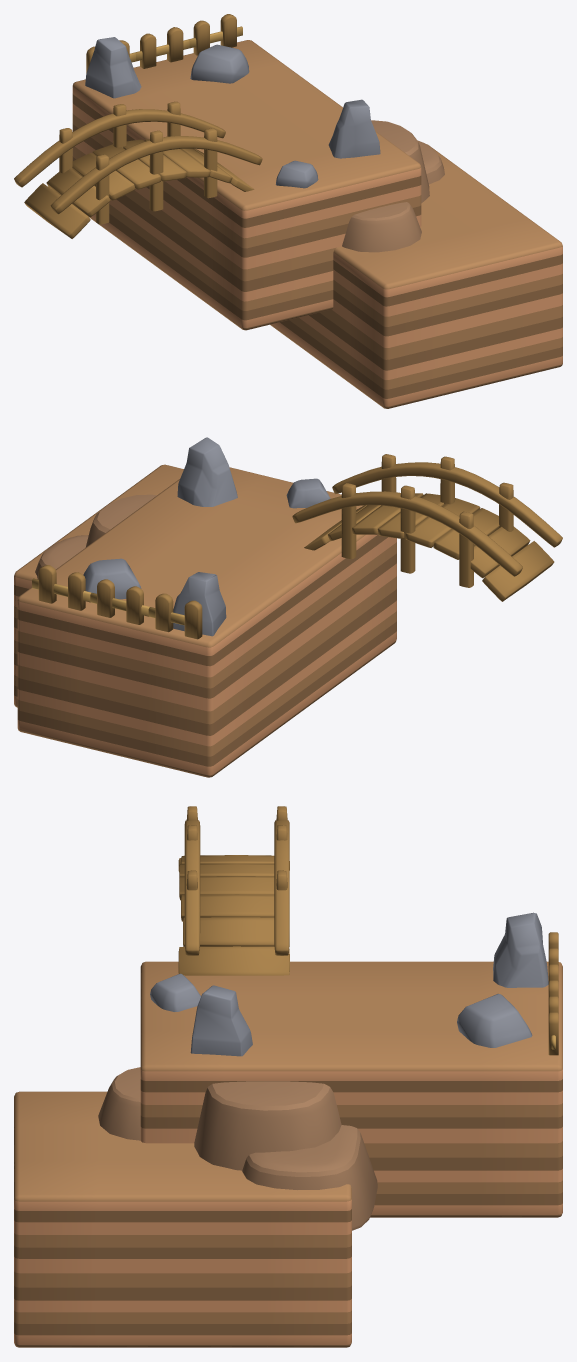
Rendered from Cube_Dirt_Side_Tall2.gltf.
The picture shows the model from 3 angles, top to bottom: view 1: azimuth 30°, elevation 25°; view 2: azimuth 150°, elevation 25°; view 3: azimuth 270°, elevation 25°; orthographic projection. The views are drawn at different scales.
Visible parts, largest first — view 1: Cube_Dirt_Side_Tall2; view 2: Cube_Dirt_Side_Tall2; view 3: Cube_Dirt_Side_Tall2.
Part boxes in pixels (<box>): Cube_Dirt_Side_Tall2: <box>14,14,562,408</box>; Cube_Dirt_Side_Tall2: <box>14,437,562,777</box>; Cube_Dirt_Side_Tall2: <box>14,806,562,1347</box>.
Bounding box in the file's own units: 14.67 × 8.43 × 13.
